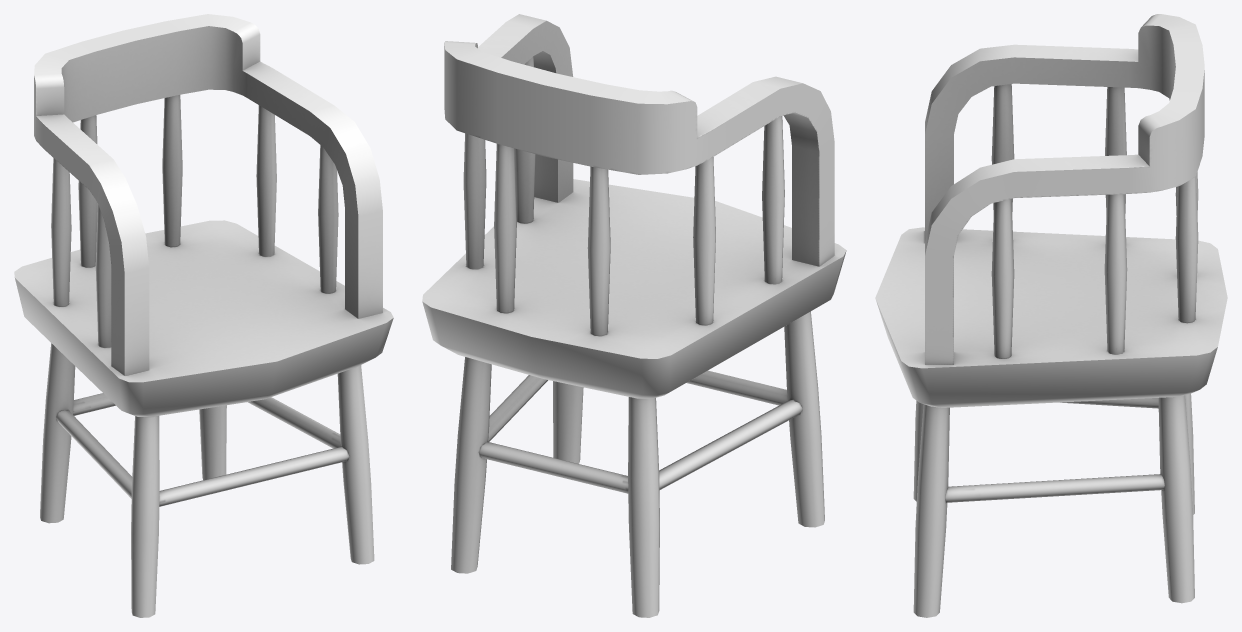
Rendered from armchair.fbx.
3 renders of one model, left to right at view 1: azimuth 30°, elevation 25°; view 2: azimuth 150°, elevation 25°; view 3: azimuth 270°, elevation 25°, orthographic. The views are drawn at different scales.
Visible parts, largest first — view 1: armchair; view 2: armchair; view 3: armchair.
Boxes of the visible parts, x1,y1,x2,y2 form: armchair: (14,14,393,617); armchair: (422,14,846,617); armchair: (875,14,1227,617).
Size of the model in its own units: 223 by 360 by 235.
